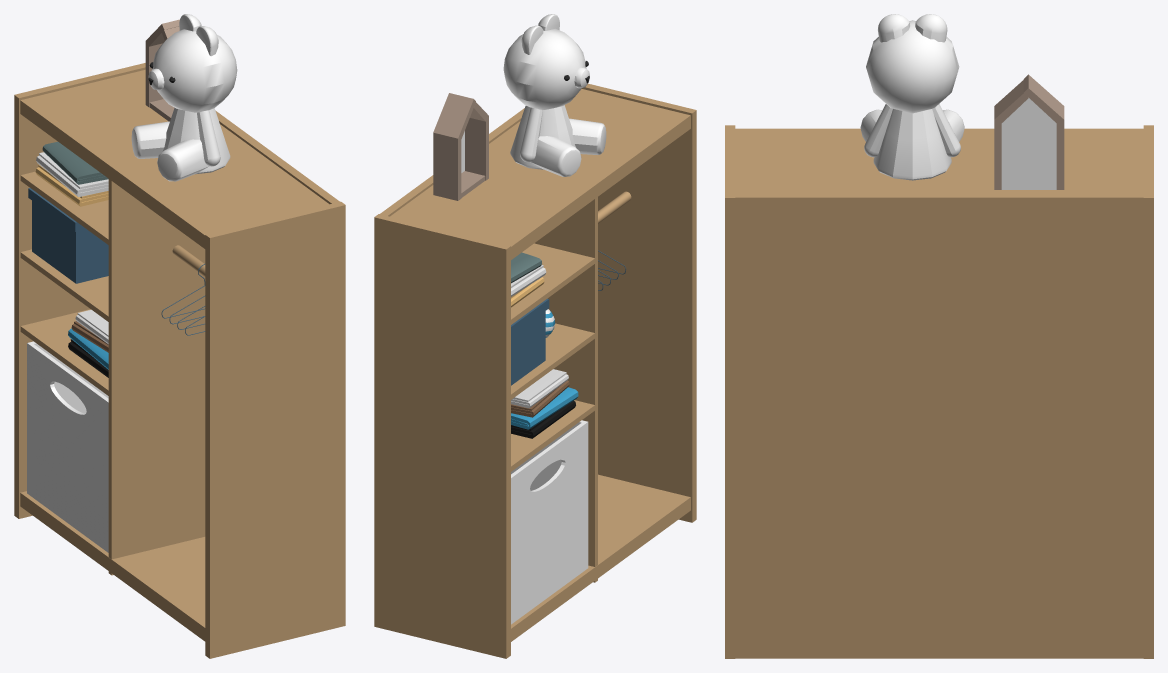
File: Furn1_chest_color3_joined.fbx
3 renders of one model, left to right at view 1: azimuth 30°, elevation 25°; view 2: azimuth 150°, elevation 25°; view 3: azimuth 270°, elevation 25°, orthographic. The views are drawn at different scales.
Visible parts, largest first — view 1: Куб.065; view 2: Куб.065; view 3: Куб.065.
Part boxes in pixels (bbox=[...]): Куб.065: bbox=[14, 14, 345, 658]; Куб.065: bbox=[374, 14, 696, 658]; Куб.065: bbox=[725, 14, 1153, 658].
Size of the model in its own units: 119 by 468 by 298.
